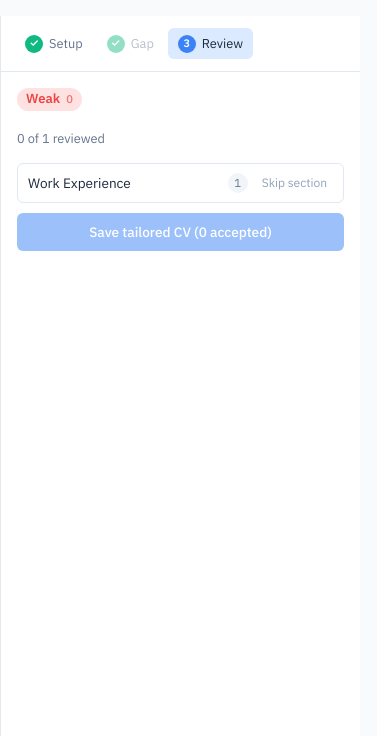
TuneRail › clicking a past step in the Step Strip switches content without tearing down review
Click the button "✓ Setup". click: (54,44)
box: 15,28 -> 93,59
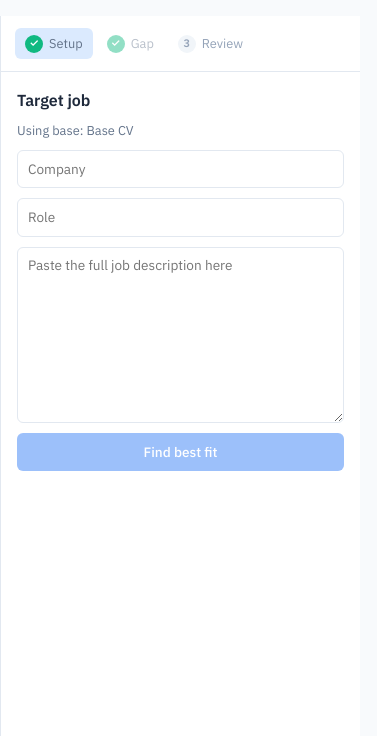
Expected: the text box with placeholder "Paste the full job description here" is shown, 17,247 -> 344,422
